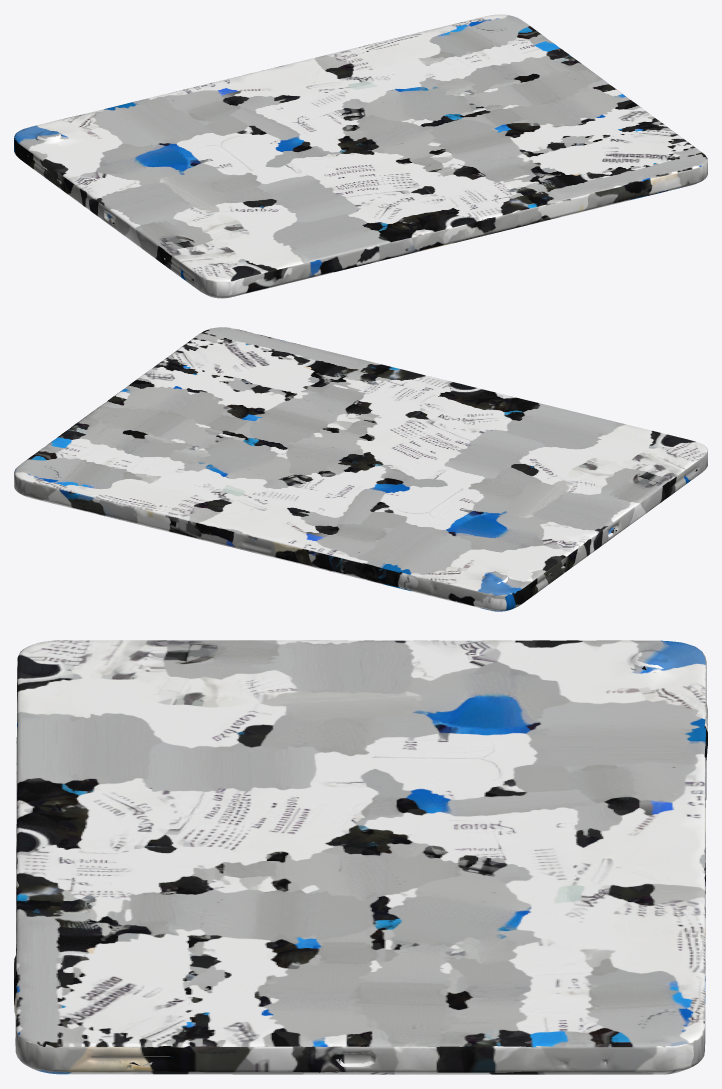
Rendered from tablet.fbx.
3 views of the same model, one above another, from view 1: azimuth 30°, elevation 25°; view 2: azimuth 150°, elevation 25°; view 3: azimuth 270°, elevation 25° (orthographic). The views are drawn at different scales.
Visible parts, largest first — view 1: Mesh_0; view 2: Mesh_0; view 3: Mesh_0.
Boxes of the visible parts, x1,y1,x2,y2 form: Mesh_0: (14,14,707,298); Mesh_0: (14,327,707,611); Mesh_0: (14,640,707,1074).
Size of the model in its own units: 200 by 9.78 by 144.
